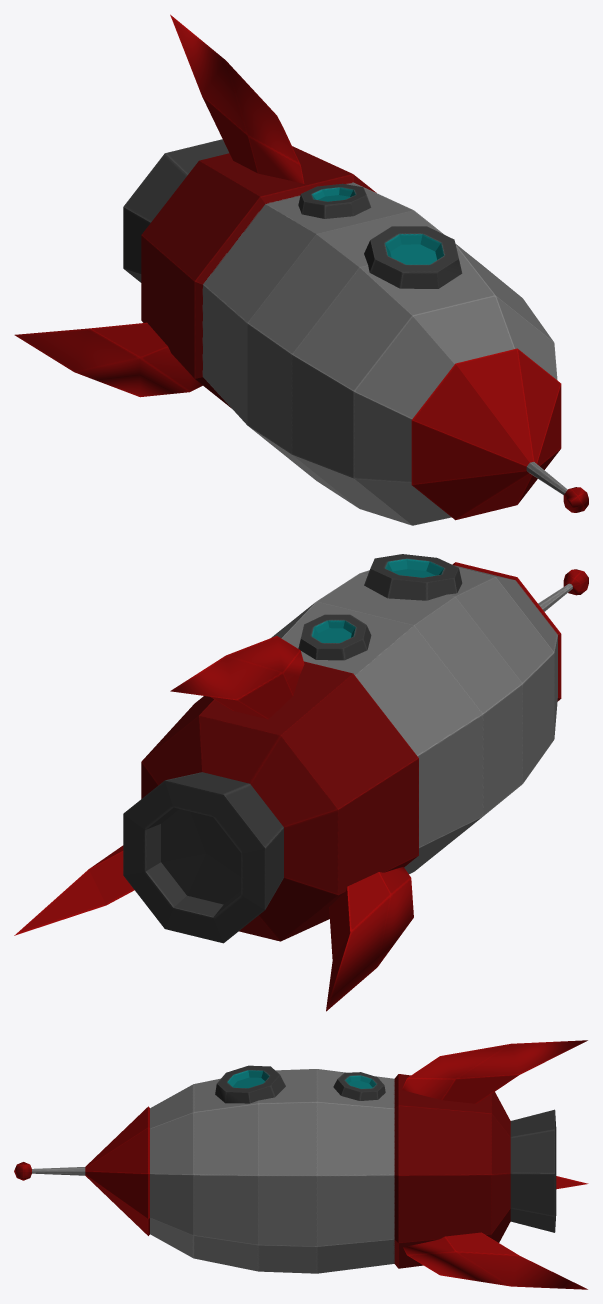
Rendered from rocket_ship.glb.
3 renders of one model, top to bottom at view 1: azimuth 30°, elevation 25°; view 2: azimuth 150°, elevation 25°; view 3: azimuth 270°, elevation 25°, orthographic. The views are drawn at different scales.
Visible parts, largest first — view 1: RocketShipMainHull, RocketShipMesh, RocketShipFin; view 2: RocketShipMainHull, RocketShipMesh, RocketShipFin; view 3: RocketShipMainHull, RocketShipMesh, RocketShipFin.
Boxes of the visible parts, x1,y1,x2,y2 form: RocketShipMainHull: (123, 139, 561, 525); RocketShipMesh: (14, 322, 588, 512); RocketShipFin: (170, 14, 304, 183); RocketShipMainHull: (123, 554, 561, 943); RocketShipMesh: (14, 569, 588, 1011); RocketShipFin: (170, 636, 304, 719); RocketShipMainHull: (85, 1065, 556, 1273); RocketShipMesh: (14, 1162, 588, 1289); RocketShipFin: (402, 1040, 587, 1103).
Bounding box in the file's own units: 3.95 × 3.78 × 9.08.
1 material, 1 textured.
